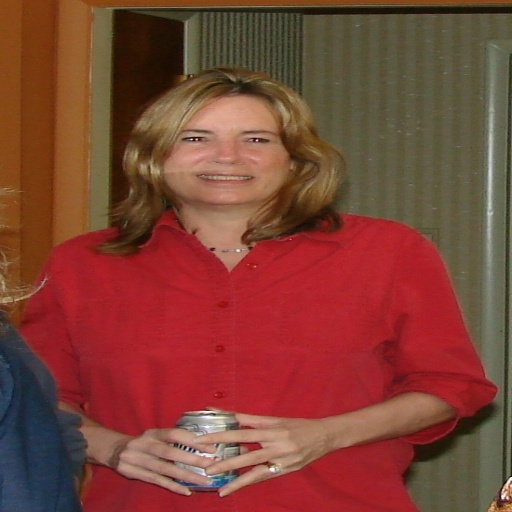hand: (205, 406, 387, 482), (107, 426, 218, 496)
